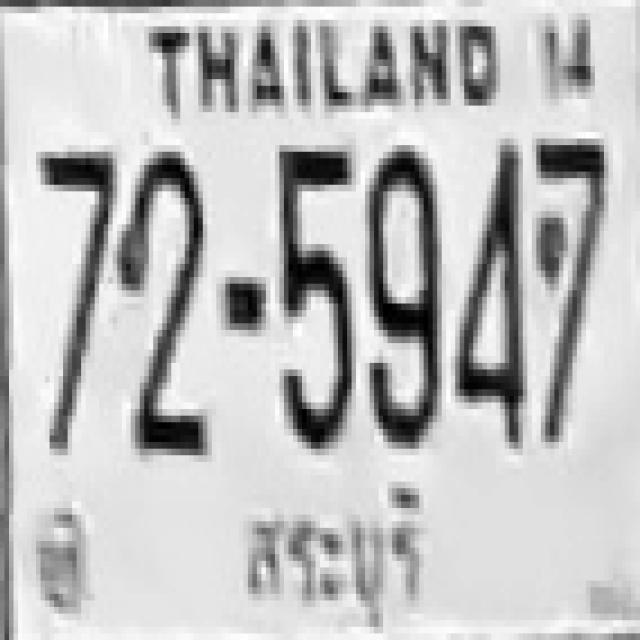0: (365, 139, 437, 442)
2: (115, 145, 205, 436)
4: (451, 139, 523, 442)
5: (275, 145, 351, 442)
7: (38, 145, 115, 442), (532, 132, 604, 442), (38, 145, 115, 356)
9: (365, 139, 437, 442)
SaraBuri: (233, 476, 440, 636)
